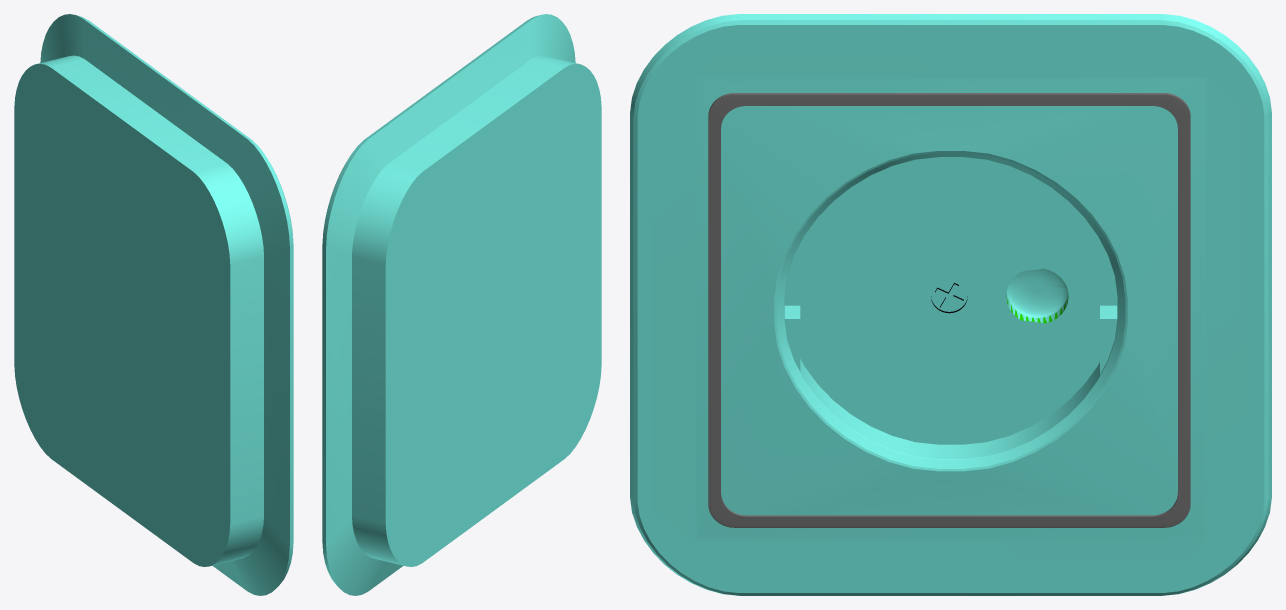
Rendered from _ocketClean.fbx.
3 views of the same model, side by side, from view 1: azimuth 30°, elevation 25°; view 2: azimuth 150°, elevation 25°; view 3: azimuth 270°, elevation 25° (orthographic). The views are drawn at different scales.
Parts seen in each view (by area): view 1: Cube; view 2: Cube; view 3: Cube, Cube.050.
Part boxes in pixels (box(x1,y1,x2,y2)): Cube: box(14, 14, 293, 595); Cube: box(322, 14, 601, 595); Cube: box(630, 14, 1271, 595); Cube.050: box(708, 93, 1190, 527).
Bounding box in the file's own units: 3.33 × 27.28 × 27.28.
